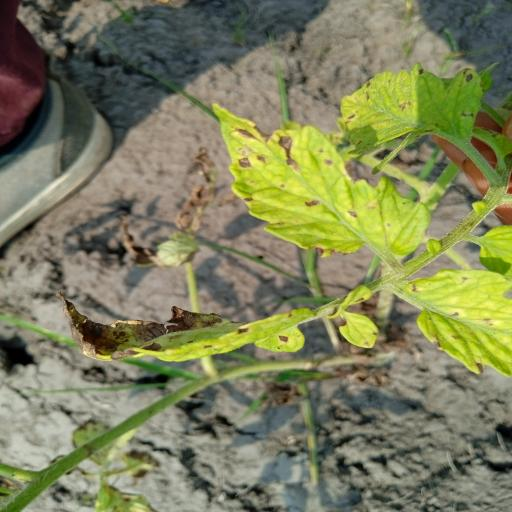Tomato_Brown_Spots: (207, 99, 433, 269), (339, 64, 493, 161), (401, 266, 512, 381)
